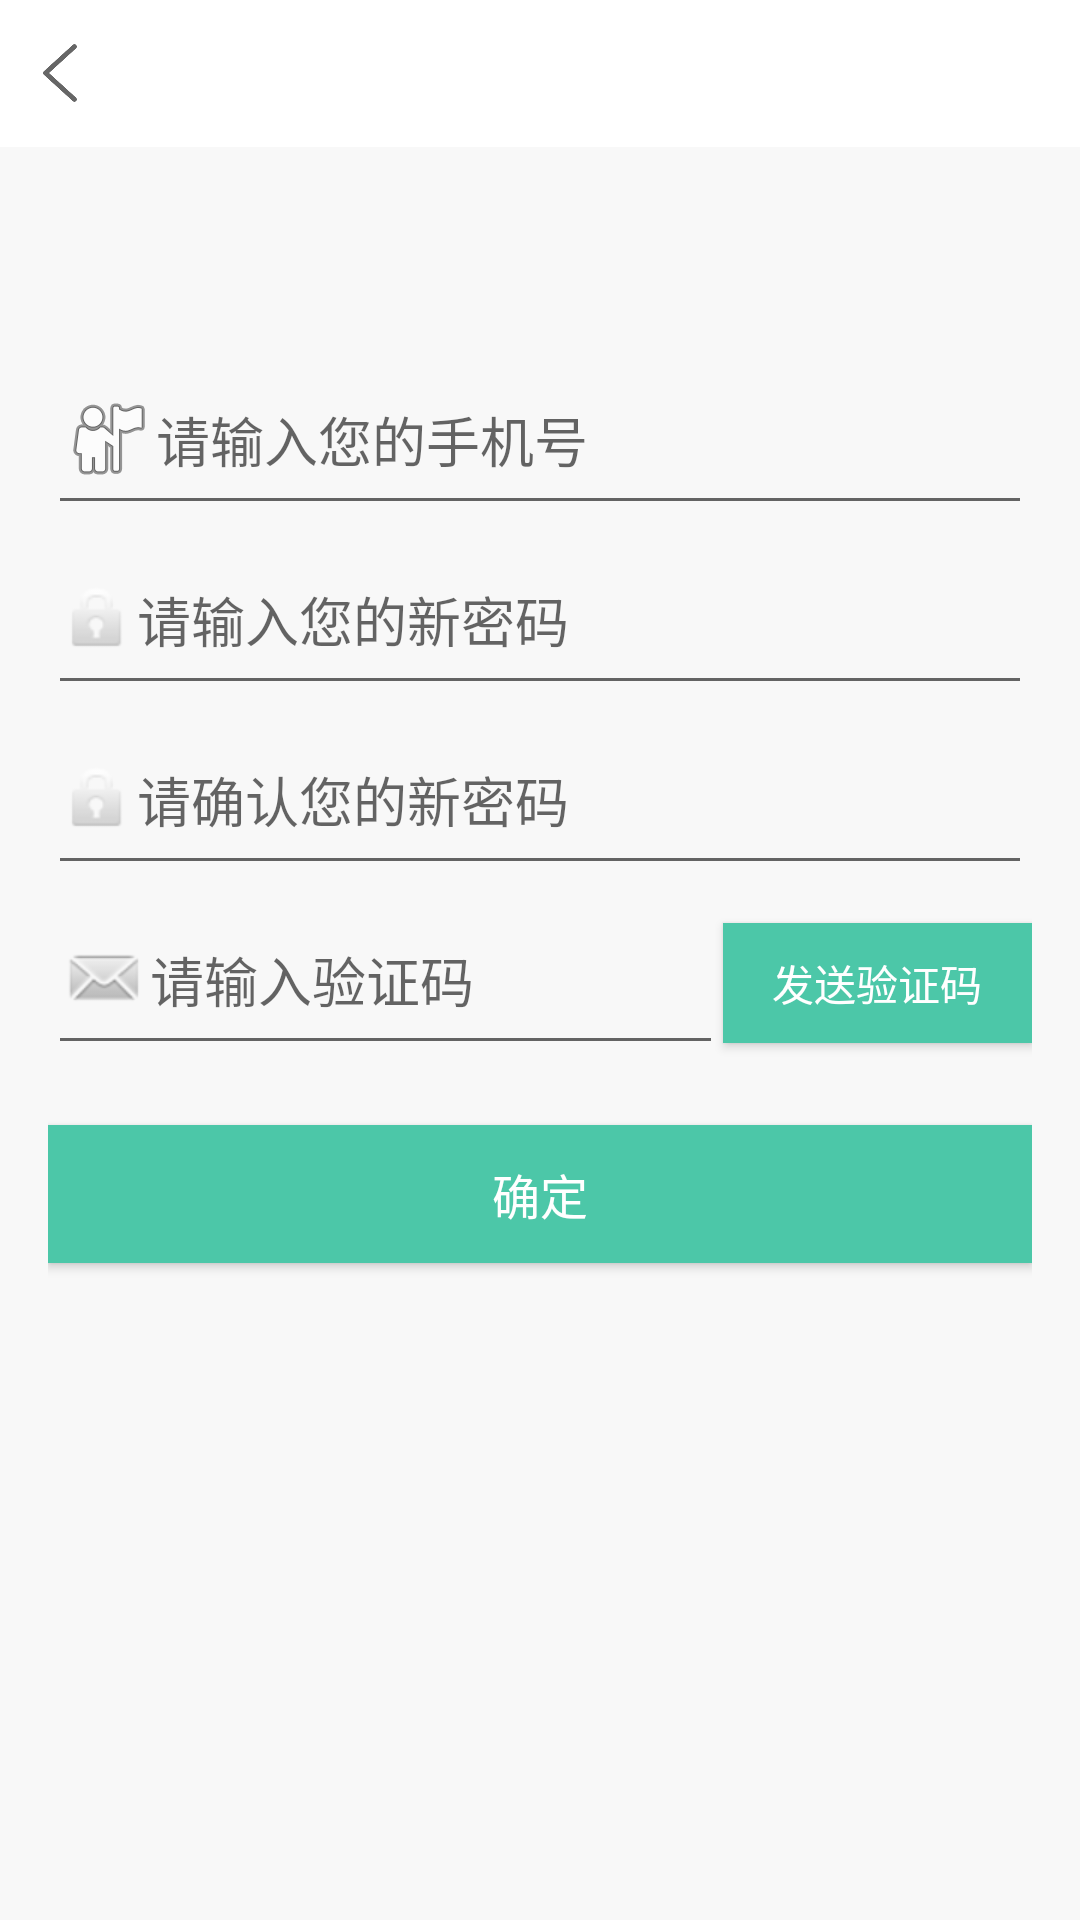

Where to tap for icons on this 1080px×1920px app screen, as point (x, y):
back: point (60, 73)
